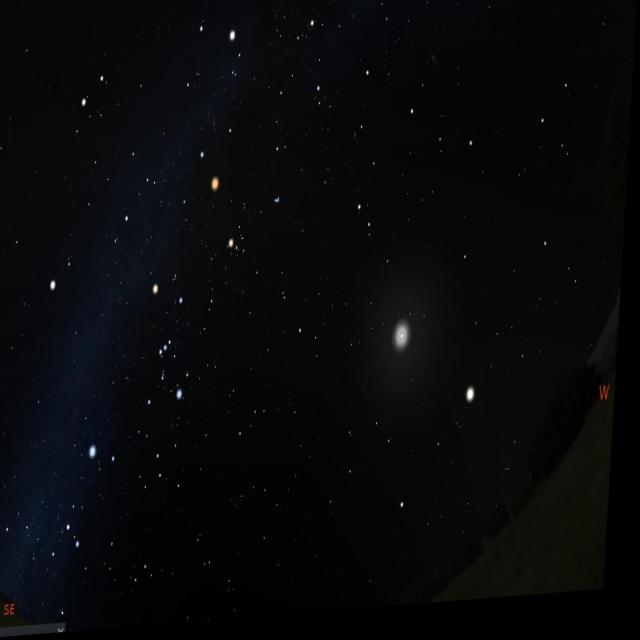canis_major: (71, 439, 120, 569)
canis_minor: (44, 244, 88, 314)
gemini: (72, 62, 178, 248)
moon: (386, 315, 427, 375)
orion: (143, 281, 200, 427)
pleiades: (271, 194, 289, 217)
taurus: (219, 183, 292, 291)
